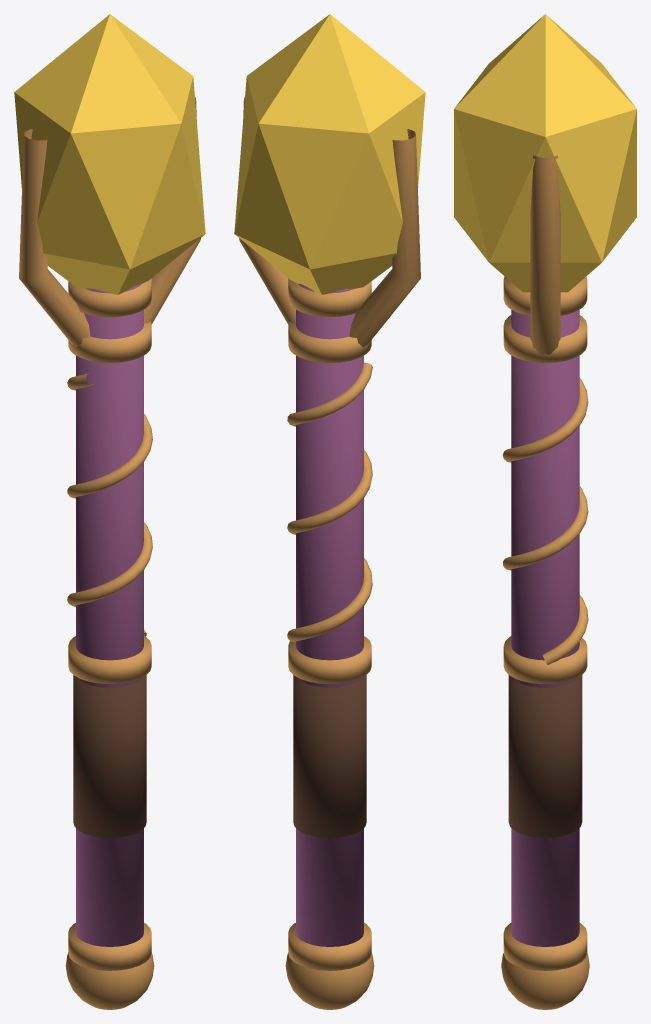
Rendered from royal.glb.
3 views of the same model, side by side, from view 1: azimuth 30°, elevation 25°; view 2: azimuth 150°, elevation 25°; view 3: azimuth 270°, elevation 25° (orthographic).
Parts seen in each view (by area): view 1: Arme_royal; view 2: Arme_royal; view 3: Arme_royal.
Part boxes in pixels (x1,y1,x2,y2): Arme_royal: [14, 14, 205, 1009]; Arme_royal: [234, 14, 425, 1009]; Arme_royal: [454, 14, 636, 1009].
Bounding box in the file's own units: 0.1619 × 0.865 × 0.1446.
